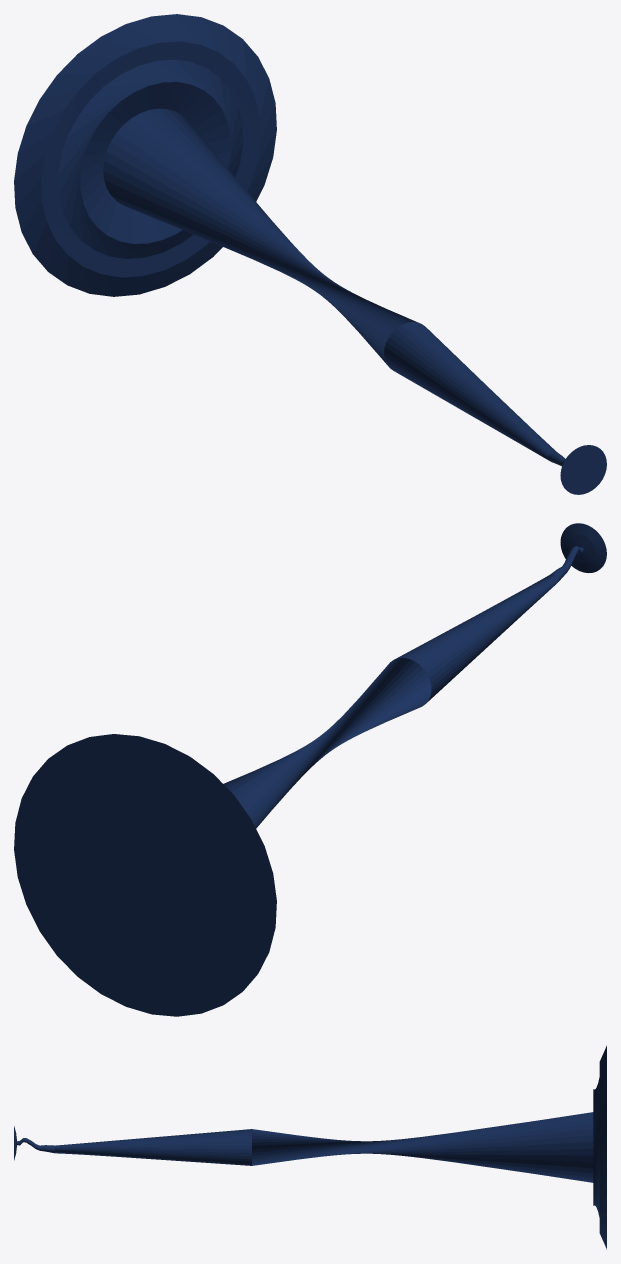
Rendered from typhoon.fbx.
3 renders of one model, top to bottom at view 1: azimuth 30°, elevation 25°; view 2: azimuth 150°, elevation 25°; view 3: azimuth 270°, elevation 25°, orthographic. The views are drawn at different scales.
Visible parts, largest first — view 1: Circle; view 2: Circle; view 3: Circle.
Part boxes in pixels (x1,y1,x2,y2): Circle: [14, 14, 606, 494]; Circle: [14, 523, 606, 1016]; Circle: [14, 1045, 606, 1249].
Size of the model in its own units: 803 by 803 by 2317.
